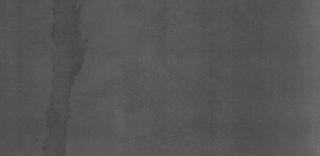water spot: (40, 1, 100, 155)
